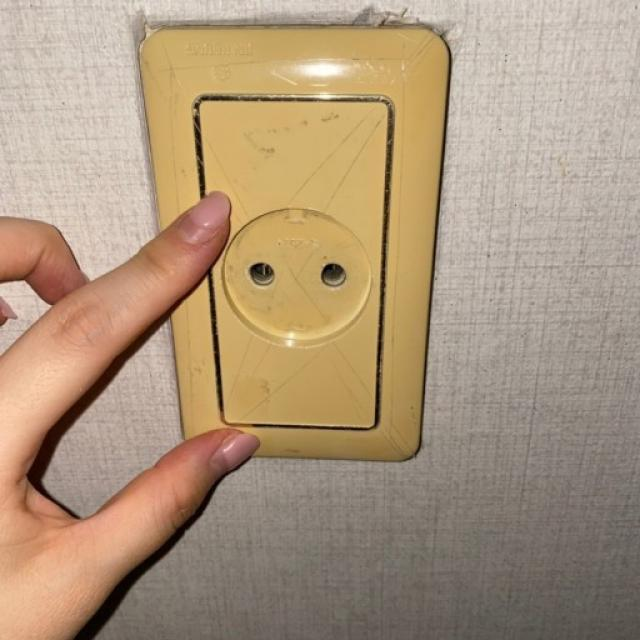typeb: (99, 29, 525, 507)
